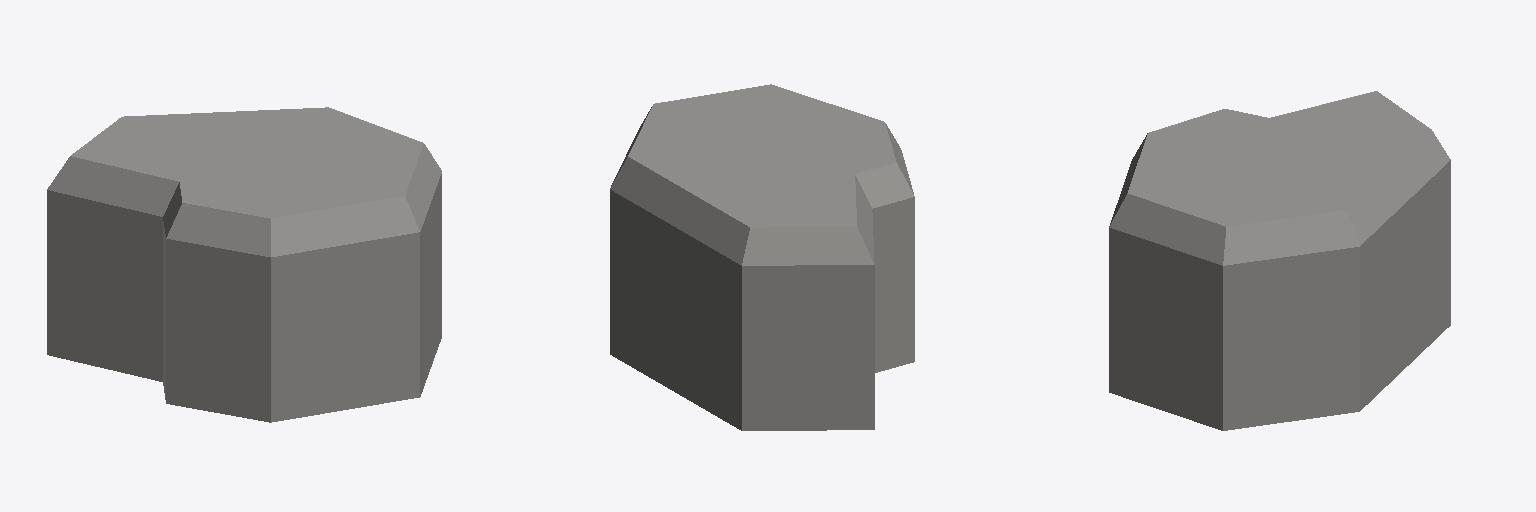
Rendered from Hilly_Prop_Stepping_Stones_1.obj.
The picture shows the model from 3 angles: view 1: azimuth 30°, elevation 25°; view 2: azimuth 150°, elevation 25°; view 3: azimuth 270°, elevation 25°; orthographic projection.
Parts seen in each view (by area): view 1: object1; view 2: object1; view 3: object1.
Boxes of the visible parts, x1=… form: object1: x1=47, y1=107, x2=441, y2=422; object1: x1=610, y1=84, x2=914, y2=430; object1: x1=1109, y1=91, x2=1450, y2=430.
Size of the model in its own units: 0.4 by 0.2375 by 0.375.